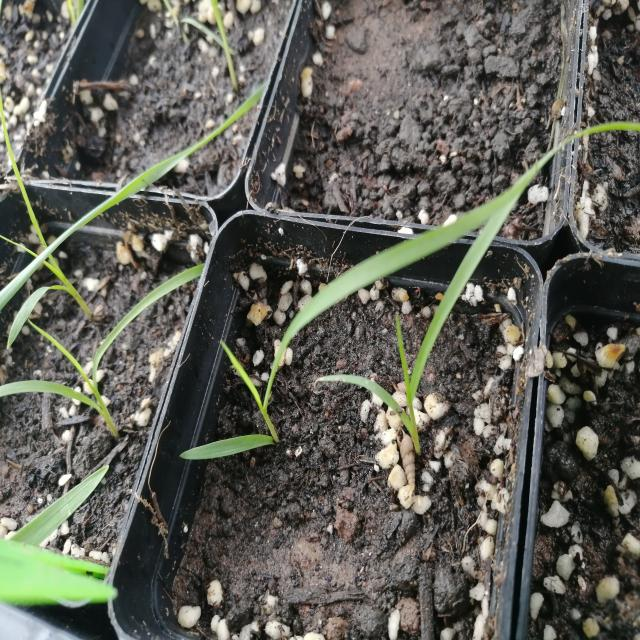crabgrass: (306, 192, 541, 429)
